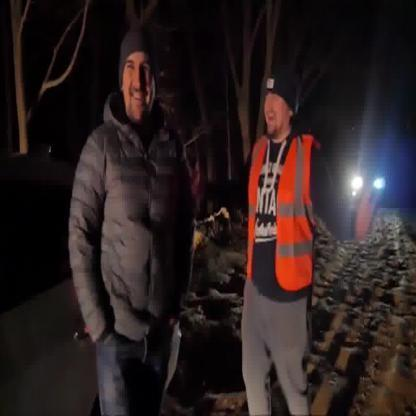vest: (246, 134, 315, 293)
